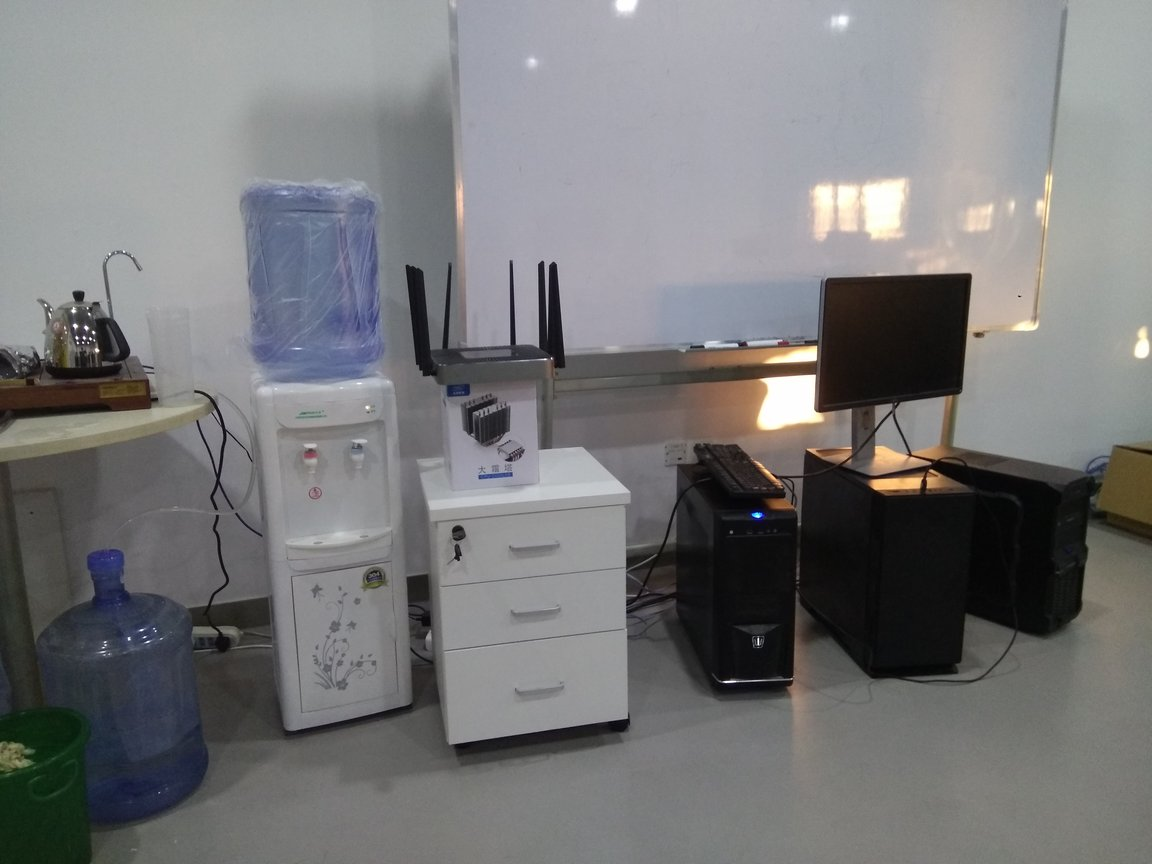computer: (803, 440, 971, 684), (910, 444, 1096, 648), (675, 454, 799, 707)
drawer chest: (415, 456, 634, 759)
monitor: (815, 267, 988, 488)
scuttlebutt: (36, 548, 214, 833), (238, 184, 387, 384)
water dispenser: (243, 363, 423, 733)
